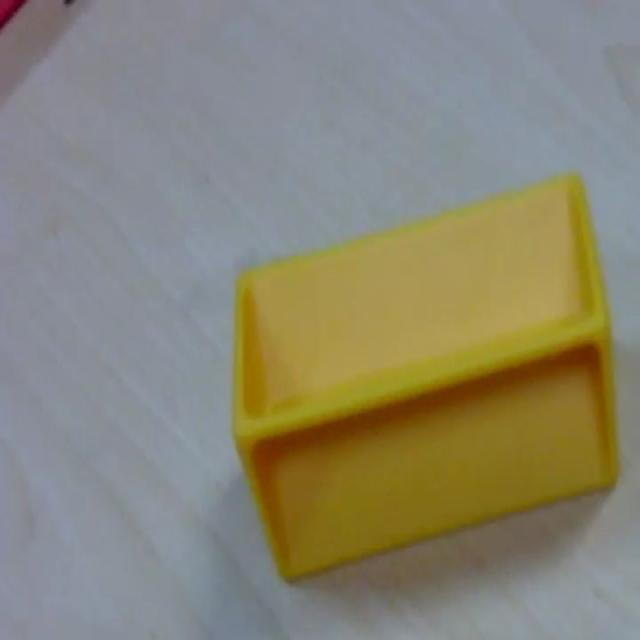yellow_block: (230, 168, 620, 581)
